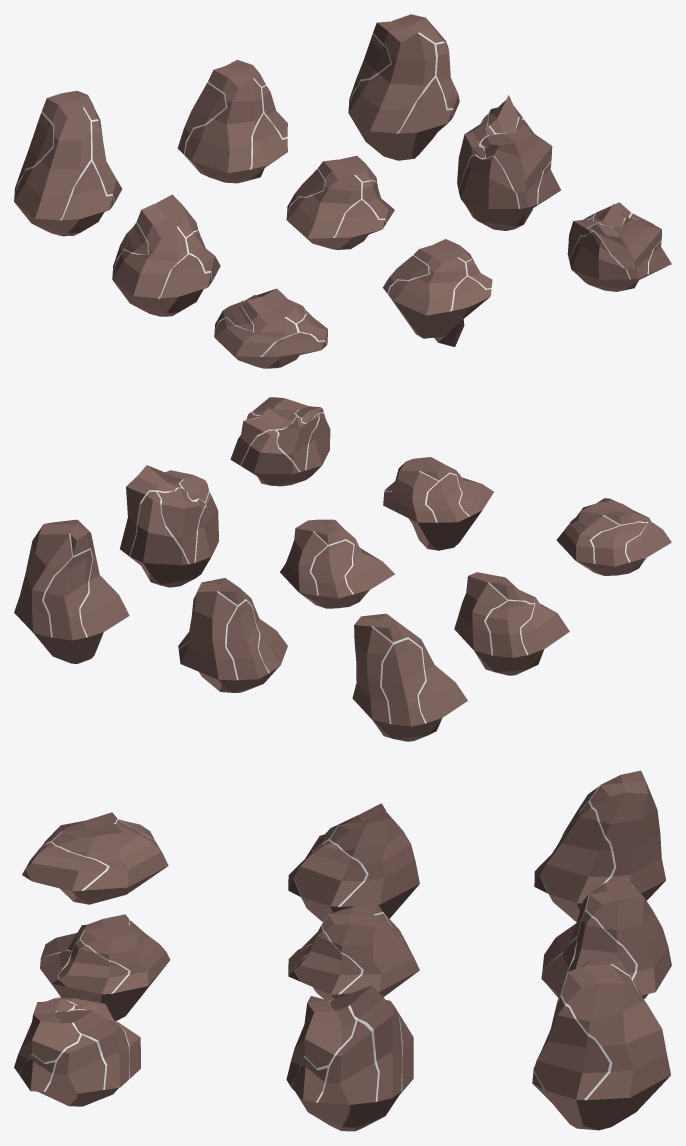
File: Meteors.fbx
3 renders of one model, top to bottom at view 1: azimuth 30°, elevation 25°; view 2: azimuth 150°, elevation 25°; view 3: azimuth 270°, elevation 25°, orthographic. The views are drawn at different scales.
Parts seen in each view (by area): view 1: ROCKv3, ROCKv1, ROCKv2, Rockv3_halfway, ROCKv1_halfway, ROCKv3_broken, ROCKv2_halfway, Rockv3_broken, ROCKv1_broken; view 2: ROCKv3, ROCKv1, Rockv3_halfway, ROCKv2, ROCKv1_halfway, Rockv3_broken, ROCKv2_halfway, ROCKv3_broken, ROCKv1_broken; view 3: ROCKv3, Rockv3_halfway, ROCKv1, Rockv3_broken, ROCKv1_halfway, ROCKv2, ROCKv1_broken, ROCKv3_broken, ROCKv2_halfway.
Part boxes in pixels (x1,y1,x2,y2): ROCKv3: [348, 14, 459, 160]; ROCKv1: [14, 90, 122, 236]; ROCKv2: [177, 60, 287, 183]; Rockv3_halfway: [457, 95, 560, 230]; ROCKv1_halfway: [112, 194, 220, 316]; ROCKv3_broken: [382, 239, 492, 346]; ROCKv2_halfway: [286, 155, 394, 249]; Rockv3_broken: [567, 202, 671, 291]; ROCKv1_broken: [214, 288, 327, 368]; ROCKv3: [14, 519, 129, 663]; ROCKv1: [352, 613, 467, 741]; Rockv3_halfway: [120, 465, 218, 587]; ROCKv2: [178, 578, 287, 692]; ROCKv1_halfway: [454, 572, 569, 675]; Rockv3_broken: [230, 397, 330, 486]; ROCKv2_halfway: [280, 519, 394, 608]; ROCKv3_broken: [383, 457, 493, 550]; ROCKv1_broken: [556, 498, 671, 575]; ROCKv3: [532, 959, 670, 1130]; Rockv3_halfway: [286, 985, 413, 1131]; ROCKv1: [534, 770, 665, 922]; Rockv3_broken: [14, 997, 140, 1106]; ROCKv1_halfway: [288, 803, 419, 921]; ROCKv2: [541, 875, 671, 998]; ROCKv1_broken: [22, 812, 168, 904]; ROCKv3_broken: [40, 914, 170, 1021]; ROCKv2_halfway: [288, 904, 419, 1000].
Bounding box in the file's own units: 735 × 215 × 786.
